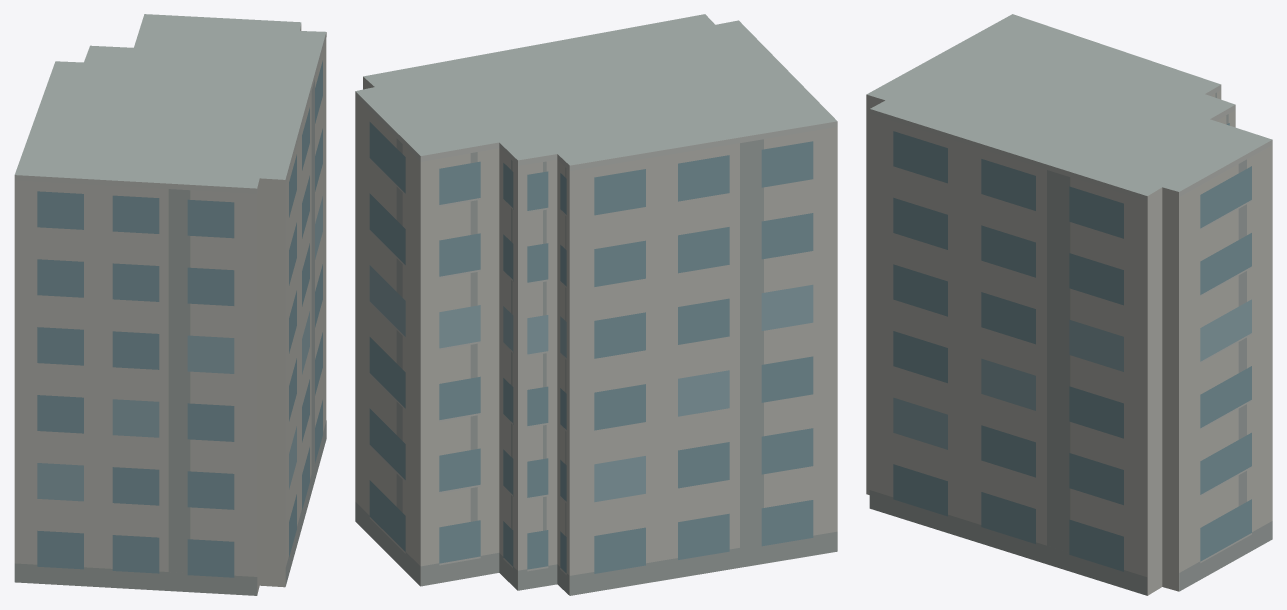
Rendered from survey-upis-32830460.glb.
3 views of the same model, side by side, from view 1: azimuth 30°, elevation 25°; view 2: azimuth 150°, elevation 25°; view 3: azimuth 270°, elevation 25° (orthographic). The views are drawn at different scales.
Visible parts, largest first — view 1: survey-upis-32830460.tmp; view 2: survey-upis-32830460.tmp; view 3: survey-upis-32830460.tmp.
Part boxes in pixels (bbox=[...]): survey-upis-32830460.tmp: bbox=[14, 14, 326, 595]; survey-upis-32830460.tmp: bbox=[355, 14, 837, 595]; survey-upis-32830460.tmp: bbox=[866, 14, 1272, 595].
Bounding box in the file's own units: 17.9 × 18.3 × 16.87.
